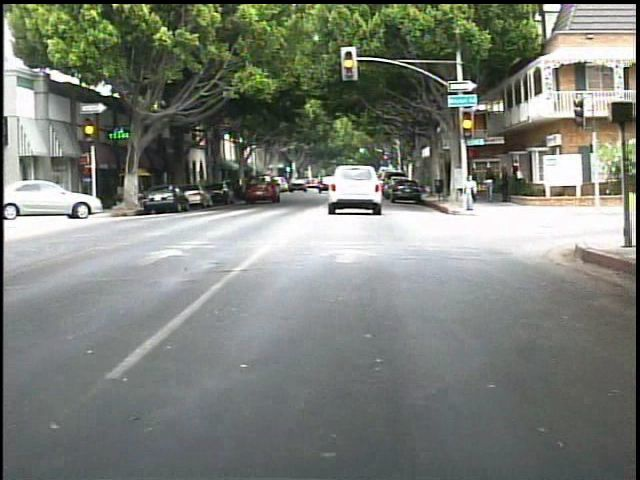person: (459, 171, 481, 213), (508, 158, 524, 195), (483, 166, 498, 203), (499, 166, 512, 205)
